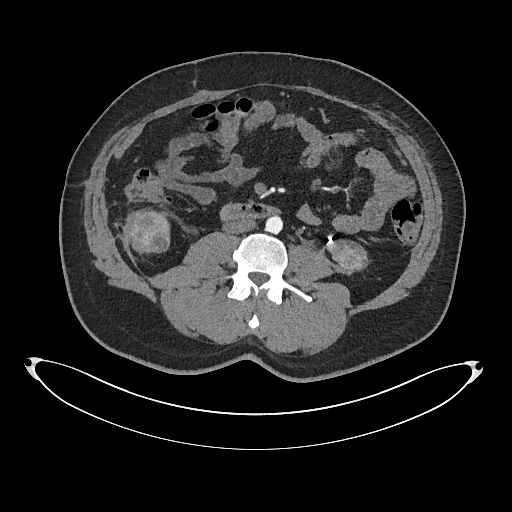Lesion: (148, 229, 172, 255)
